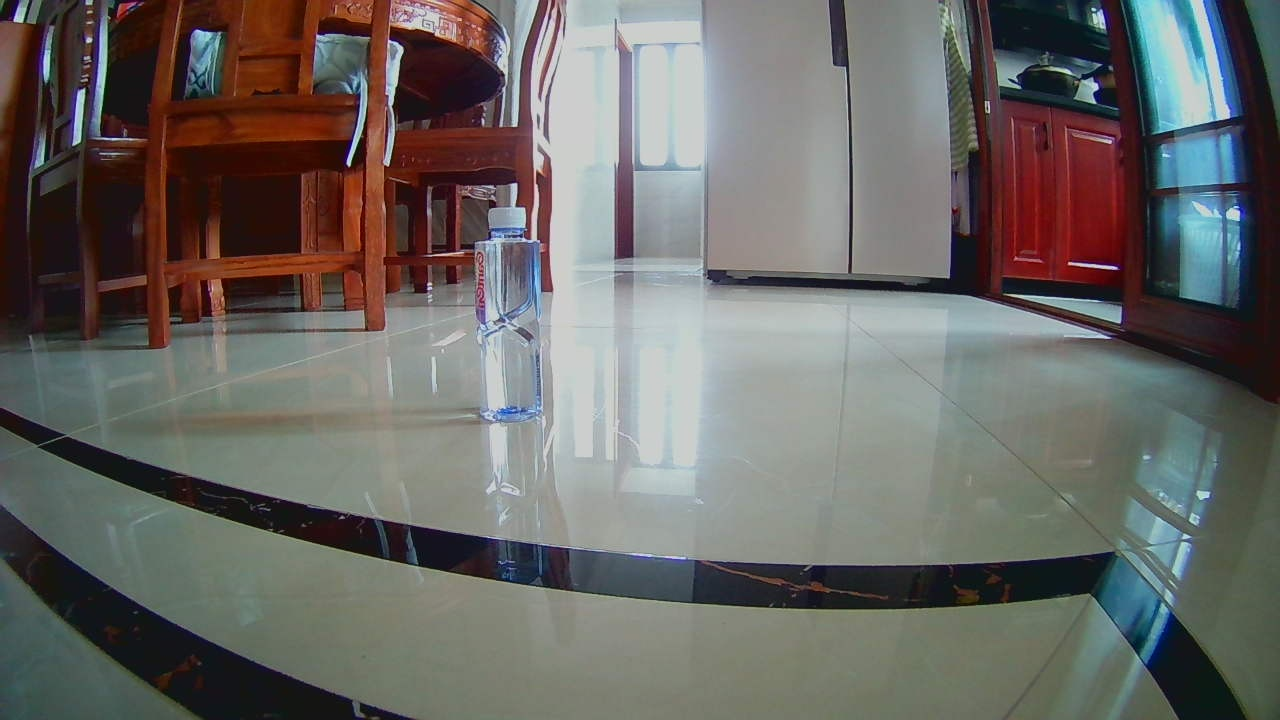water: (471, 210, 544, 423)
